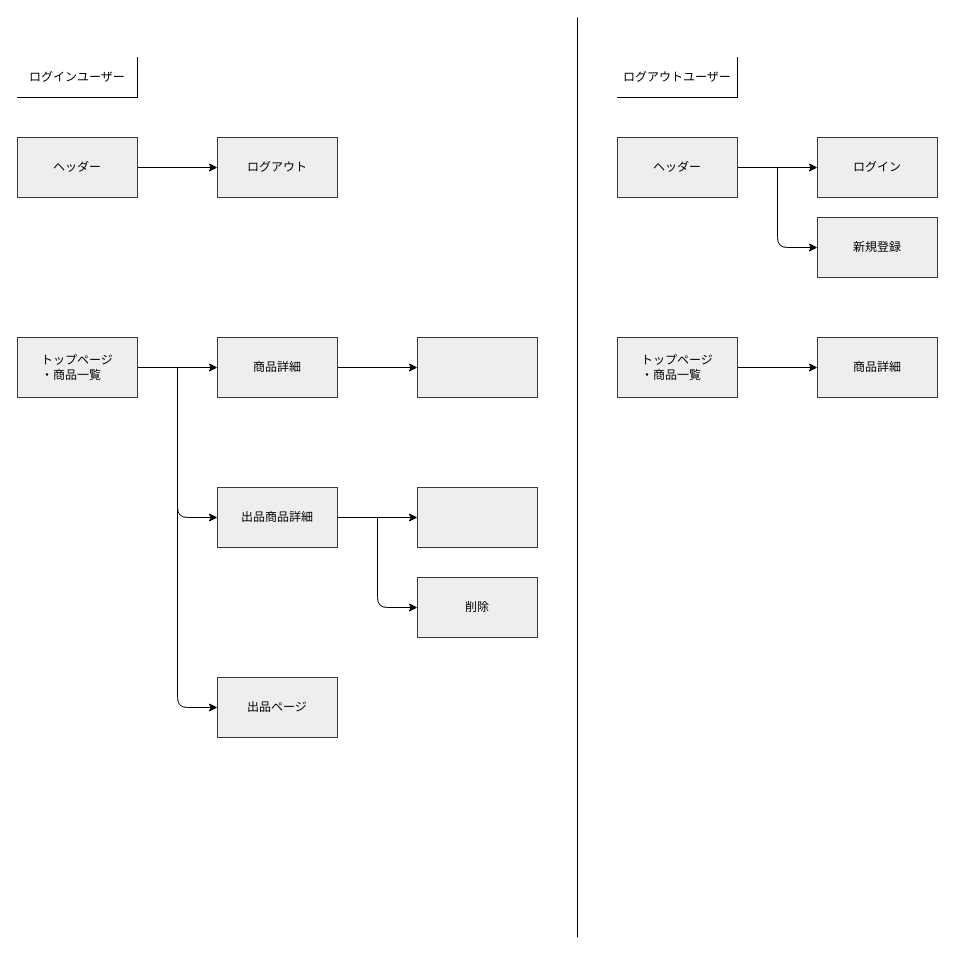
The diagram is 955 pixels wide and 956 high, and some of its shapes have lost their labels. The shapes that lost their labels are listed below. From the top down, each one's box as (x1, y1, x2, y2) in pixels, then its label:
(416, 336, 538, 398): 購入ページ
(416, 486, 538, 548): 編集ページ
